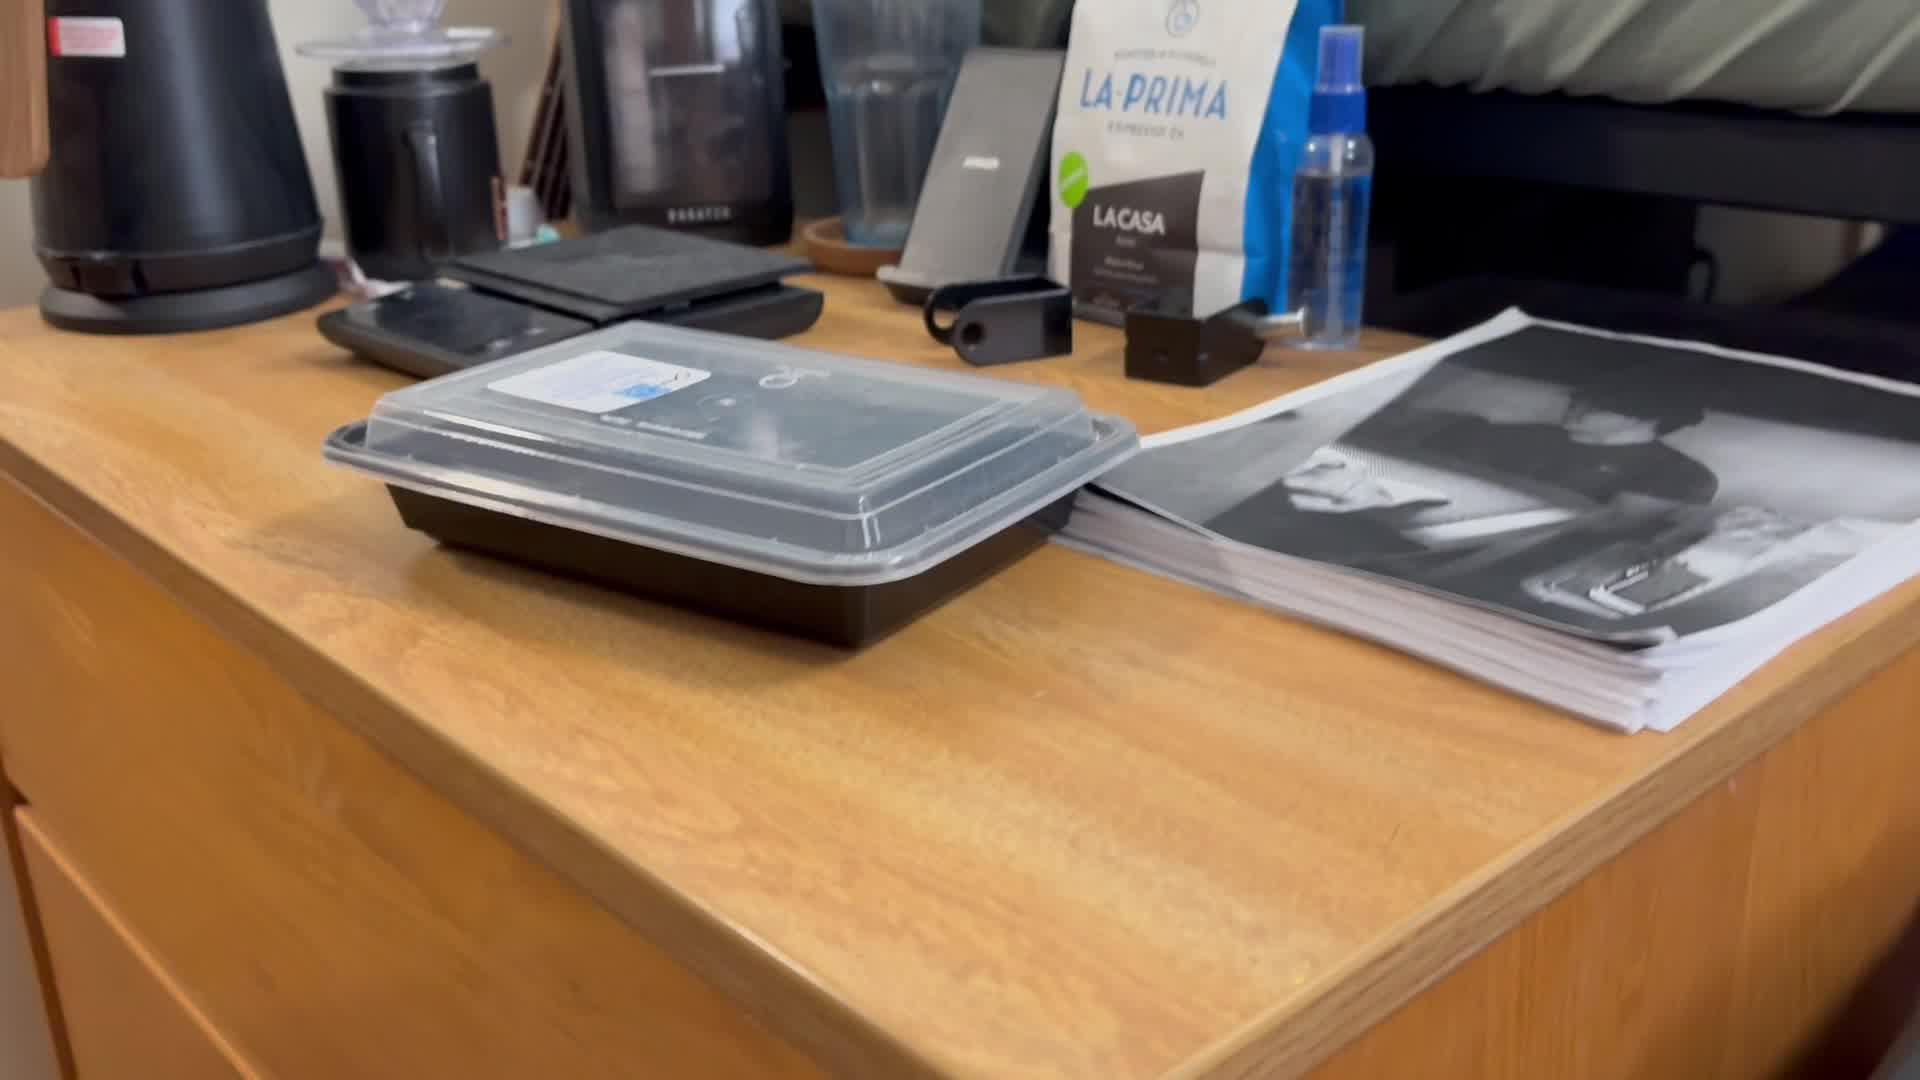lp_cup_lids: (316, 313, 1142, 655)
